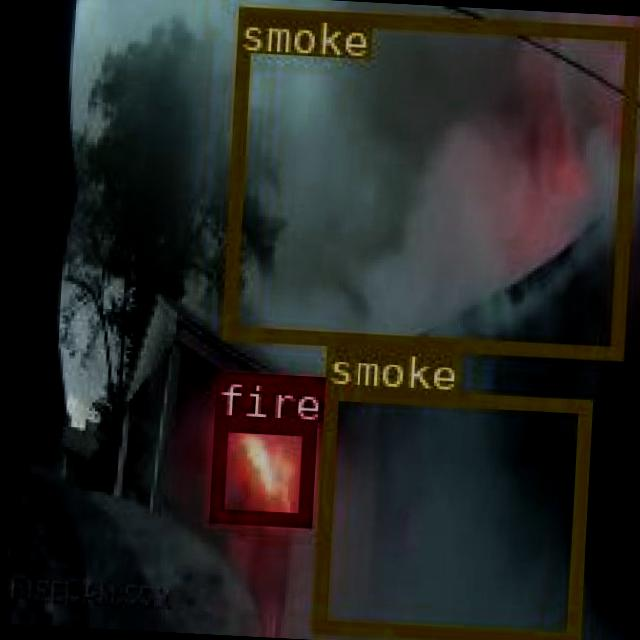fire: (209, 416, 314, 524)
smoke: (220, 4, 638, 357), (310, 383, 590, 640)
